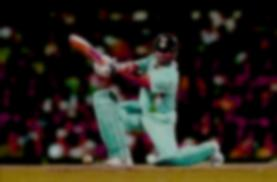batsman: (49, 14, 248, 176)
